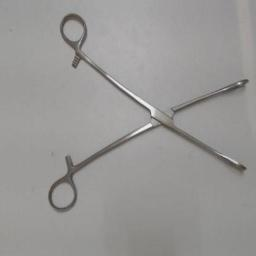Sponge Forceps: (48, 9, 250, 215)
